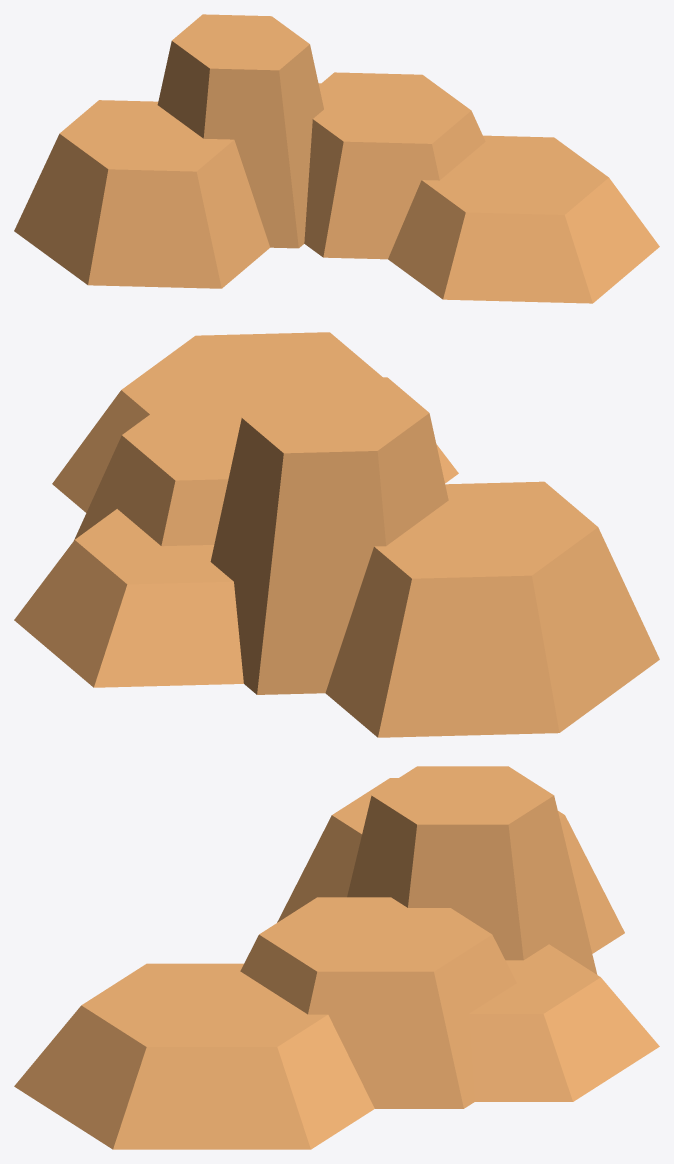
File: DetailRocks.fbx
3 renders of one model, top to bottom at view 1: azimuth 30°, elevation 25°; view 2: azimuth 150°, elevation 25°; view 3: azimuth 270°, elevation 25°, orthographic. The views are drawn at different scales.
Parts seen in each view (by area): view 1: detail_dirt; view 2: detail_dirt; view 3: detail_dirt.
Boxes of the visible parts, x1,y1,x2,y2 form: detail_dirt: [14, 14, 659, 303]; detail_dirt: [14, 332, 659, 737]; detail_dirt: [14, 766, 659, 1149].
Bounding box in the file's own units: 23.62 × 7.88 × 23.62.
